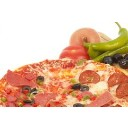pepperonipizza: (1, 58, 128, 107)
